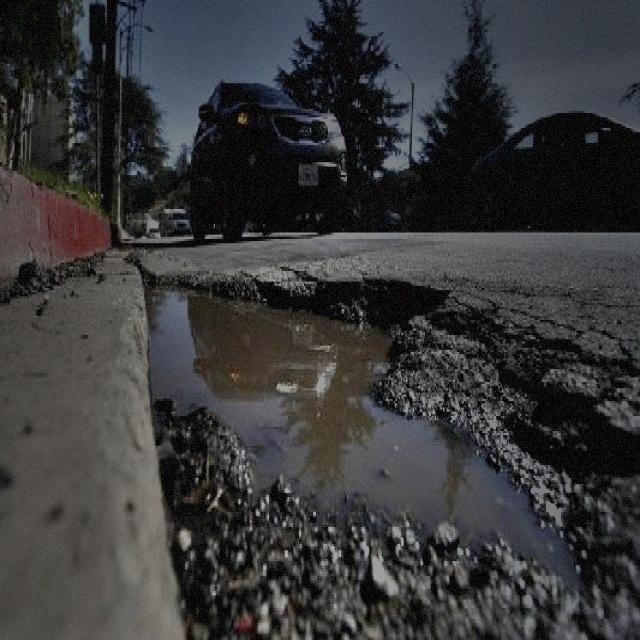pothole: (134, 264, 636, 638)
